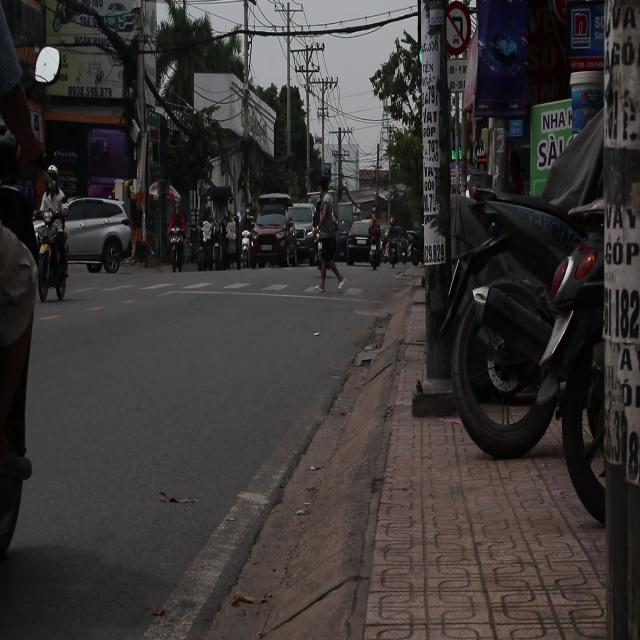car: (62, 196, 134, 274), (250, 212, 296, 269), (286, 203, 317, 263), (345, 220, 371, 264)
motorbike: (34, 185, 76, 324), (364, 211, 397, 280), (232, 206, 260, 285), (161, 210, 189, 286)
